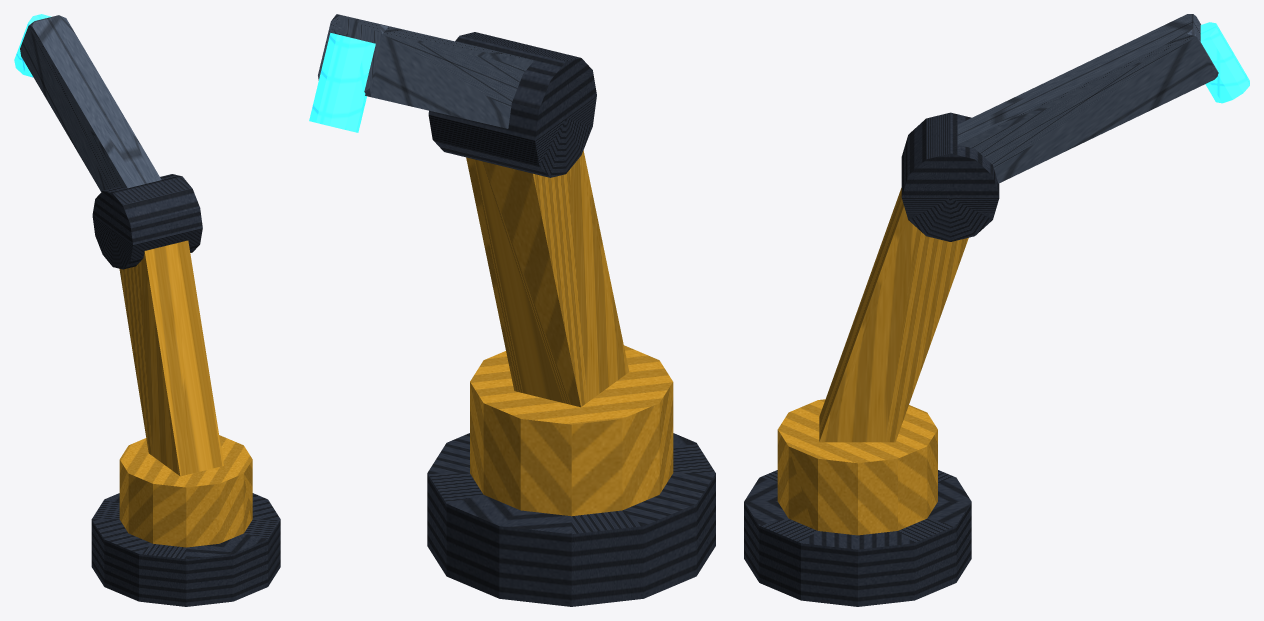
Rendered from hangar_robotic_arm.glb.
3 views of the same model, side by side, from view 1: azimuth 30°, elevation 25°; view 2: azimuth 150°, elevation 25°; view 3: azimuth 270°, elevation 25° (orthographic). The views are drawn at different scales.
Parts seen in each view (by area): view 1: hangar_robotic_arm; view 2: hangar_robotic_arm; view 3: hangar_robotic_arm.
Part boxes in pixels (bbox=[...]): hangar_robotic_arm: bbox=[14, 14, 280, 606]; hangar_robotic_arm: bbox=[309, 14, 715, 606]; hangar_robotic_arm: bbox=[744, 14, 1249, 606].
Size of the model in its own units: 2.7 by 7.04 by 6.
Materials: 1 (1 with a texture image).
